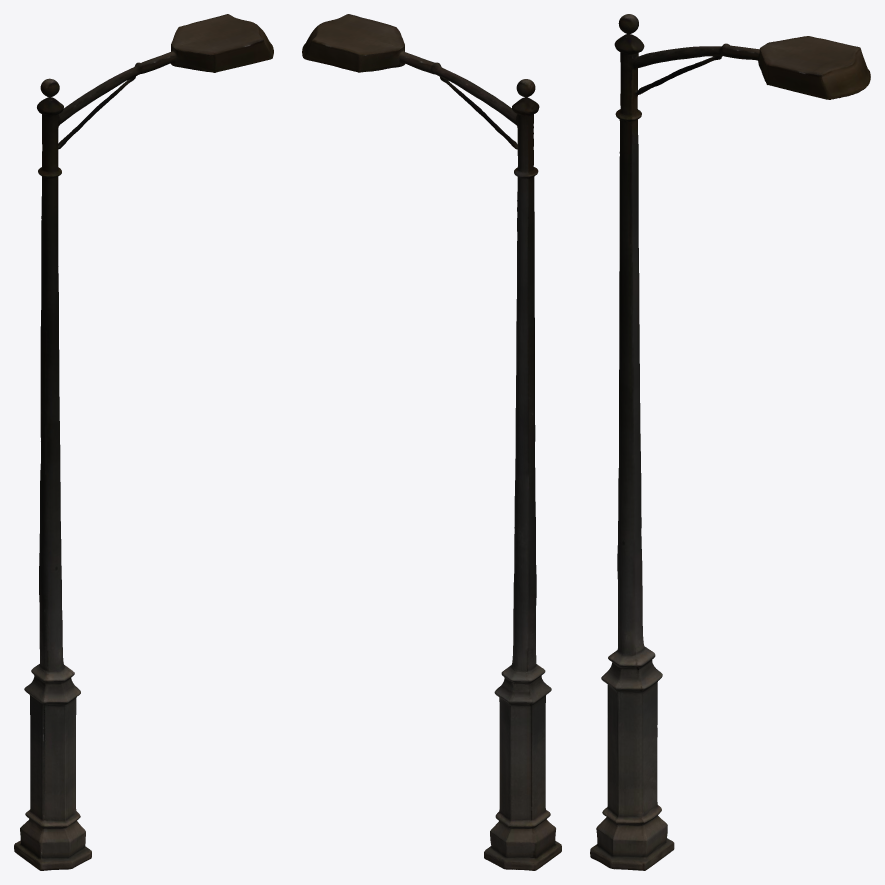
File: streetlight.glb
3 renders of one model, left to right at view 1: azimuth 30°, elevation 25°; view 2: azimuth 150°, elevation 25°; view 3: azimuth 330°, elevation 25°, orthographic. The views are drawn at different scales.
Visible parts, largest first — view 1: world; view 2: world; view 3: world.
Part boxes in pixels (x1,y1,x2,y2): world: (14, 14, 273, 870); world: (302, 14, 561, 870); world: (590, 14, 870, 870).
Size of the model in its own units: 0.6434 by 1.99 by 0.1783.
Materials: 1 (1 with a texture image).
